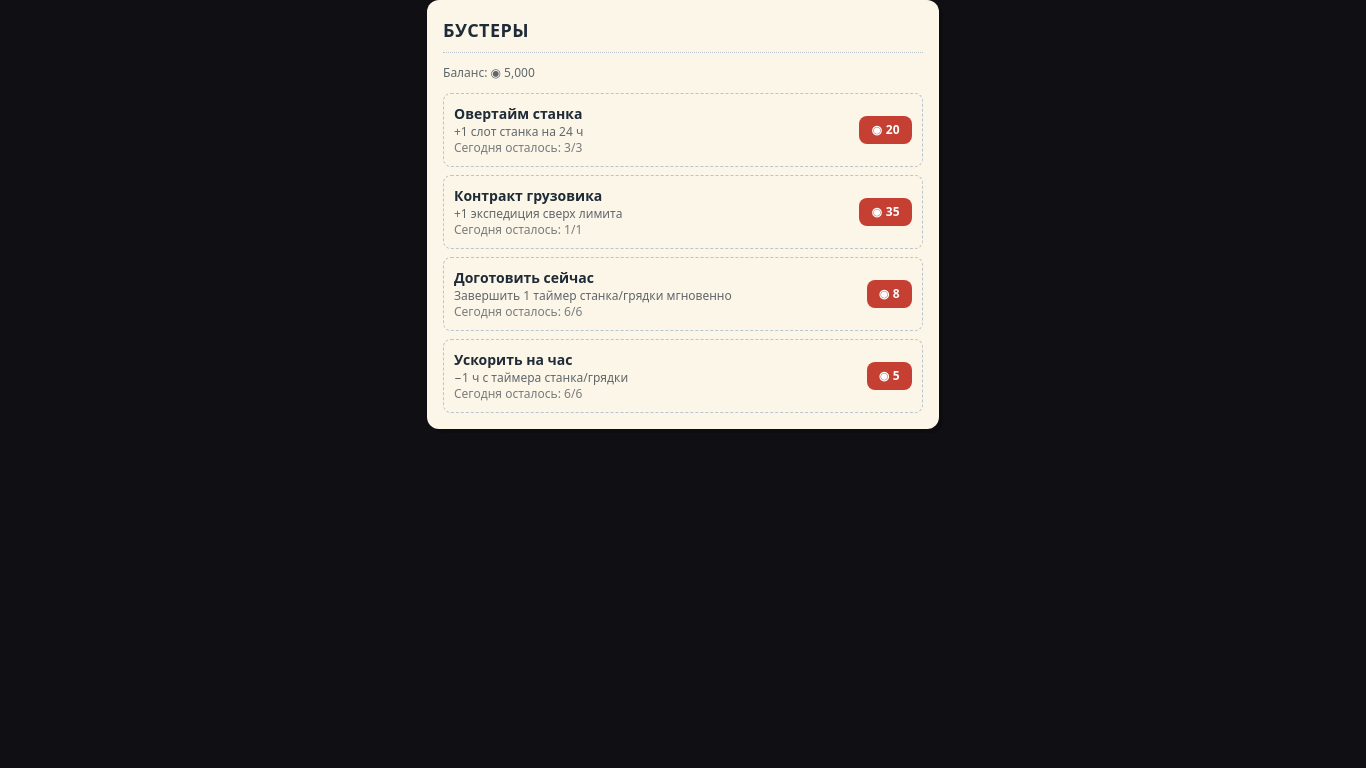
it: Boosters (§3.4) › OK в dev-диалоге вызывает purchaseDecor и уменьшает "осталось сегодня"
Step 1. Click the button with test id "booster-buy-bst_truck_contract" → (886, 212), box [860,198,912,226]
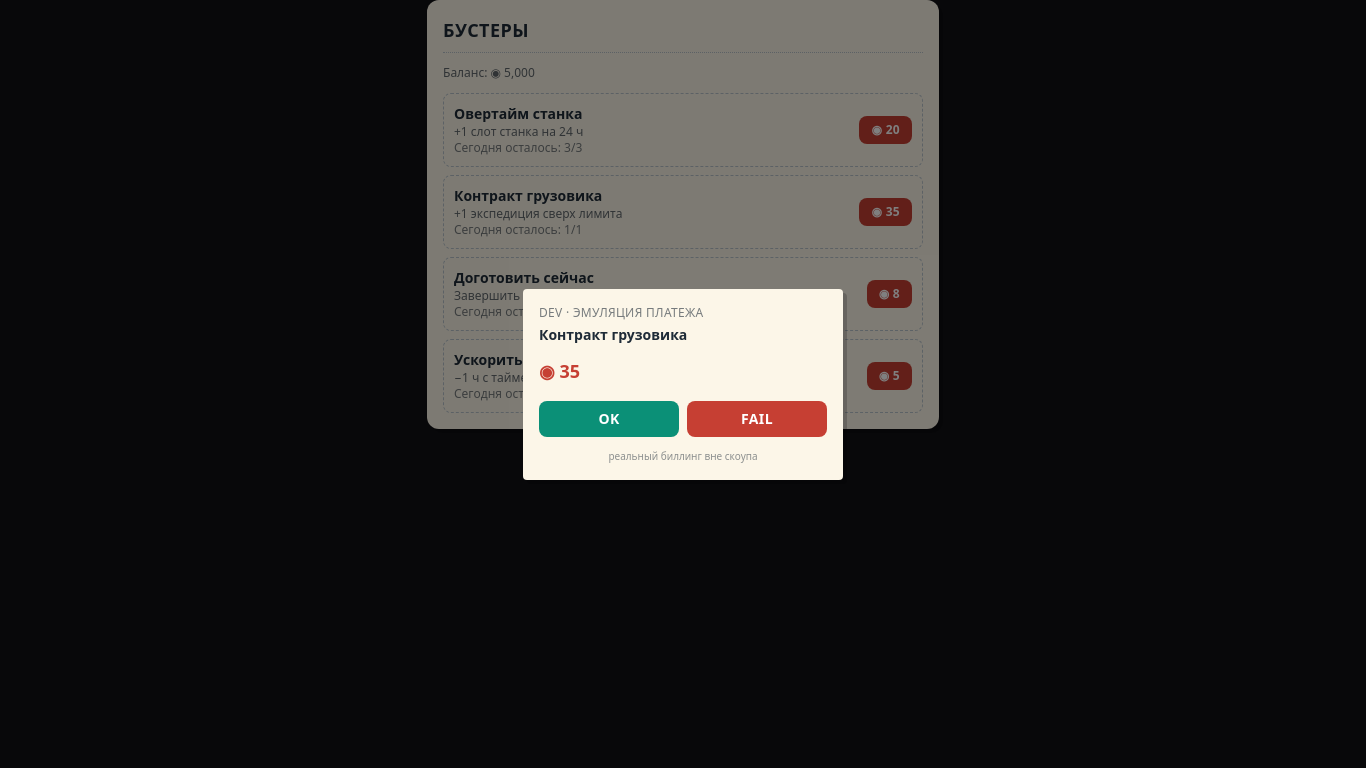
Step 2. Click the button with test id "dev-payment-ok" → (609, 418), box [539,400,679,436]
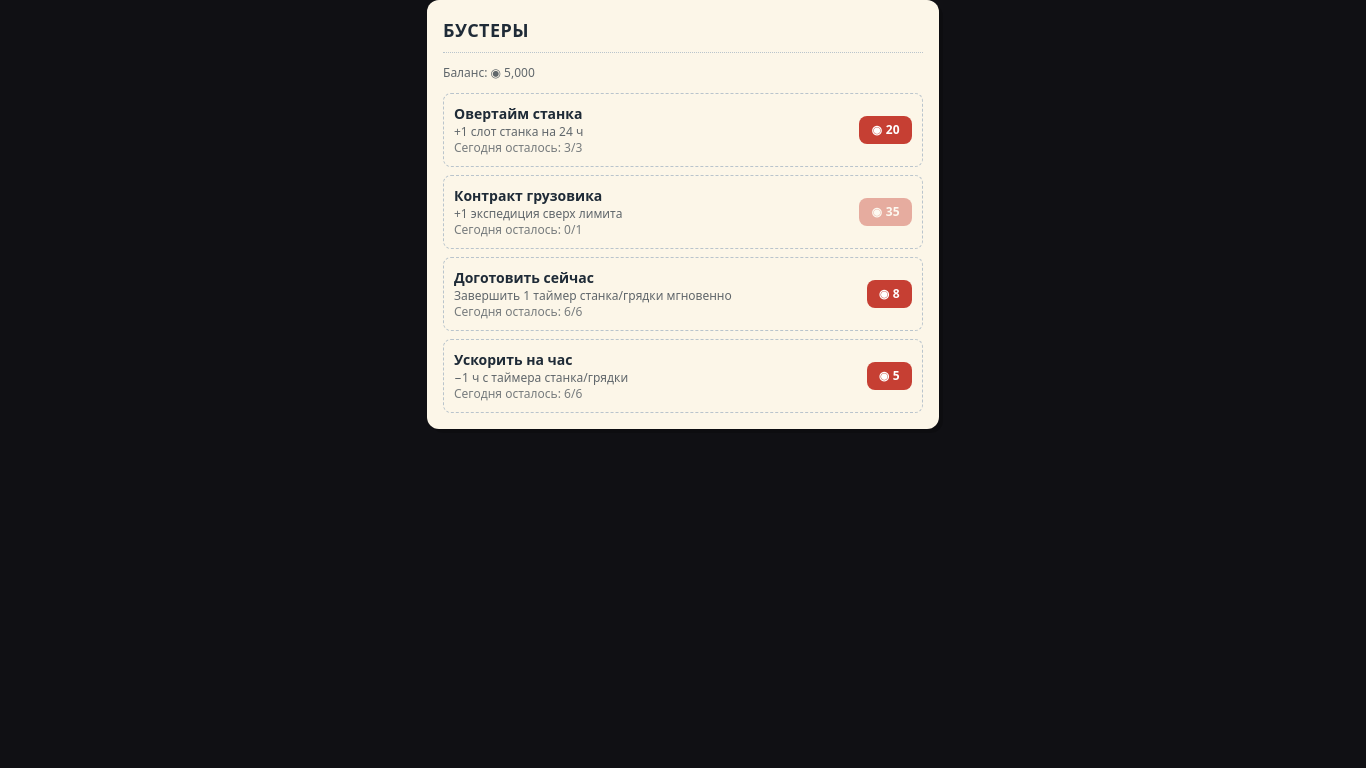
Expected: the text with test id "booster-cap-bst_truck_contract" shows "0/1", [454,221,582,238]
Expected: the button with test id "booster-buy-bst_truck_contract" is disabled, [860,198,912,226]
